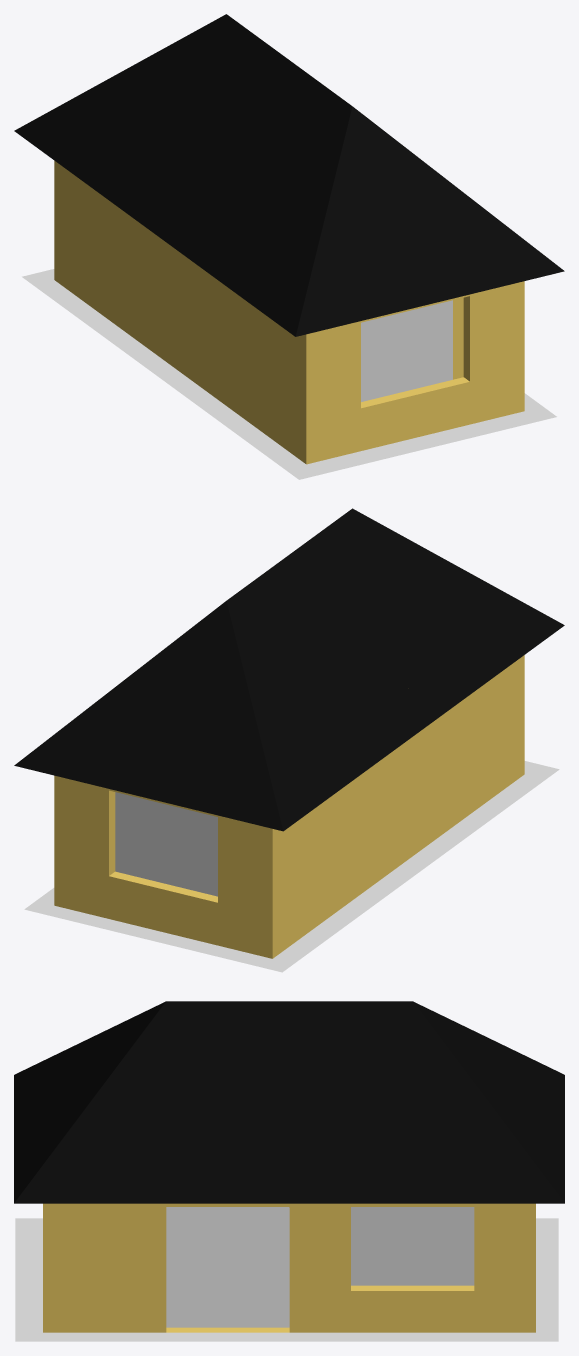
Rendered from house.dae.
The picture shows the model from 3 angles, top to bottom: view 1: azimuth 30°, elevation 25°; view 2: azimuth 150°, elevation 25°; view 3: azimuth 270°, elevation 25°; orthographic projection. The views are drawn at different scales.
Parts seen in each view (by area): view 1: Cube_001; view 2: Cube_001; view 3: Cube_001.
Part boxes in pixels (bbox=[...]): Cube_001: bbox=[14, 14, 564, 479]; Cube_001: bbox=[14, 508, 564, 972]; Cube_001: bbox=[14, 1001, 564, 1341].
Bounding box in the file's own units: 2.47 × 4.47 × 2.5.
